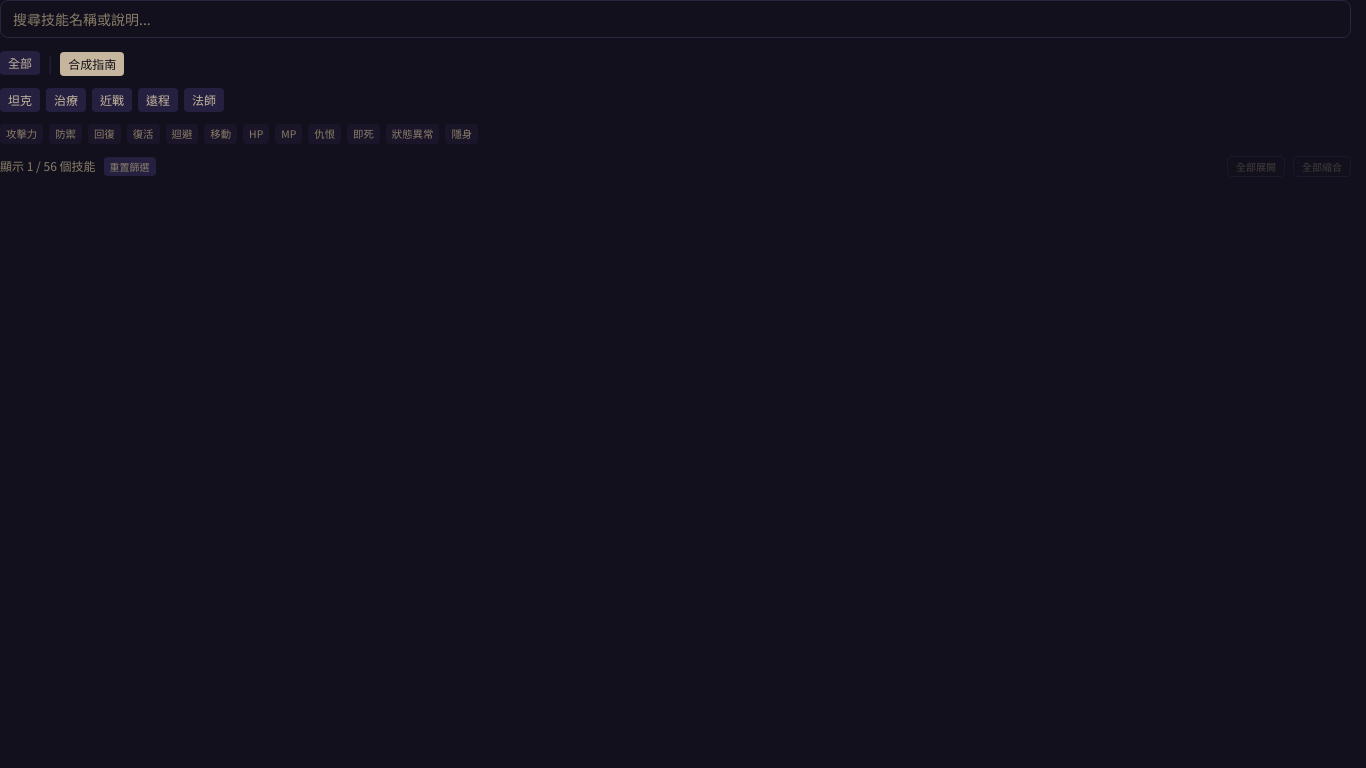
Scenario: SkillRecipeList — A4 guide mode expand/collapse › enables expand-all/collapse-all when not in guide view
This screenshot has width=1366, height=768.
Note: Switch away from 'guide' to 'all'
Click the button "全部".
click(20, 63)  # box top-left (0, 51), bottom-right (40, 75)
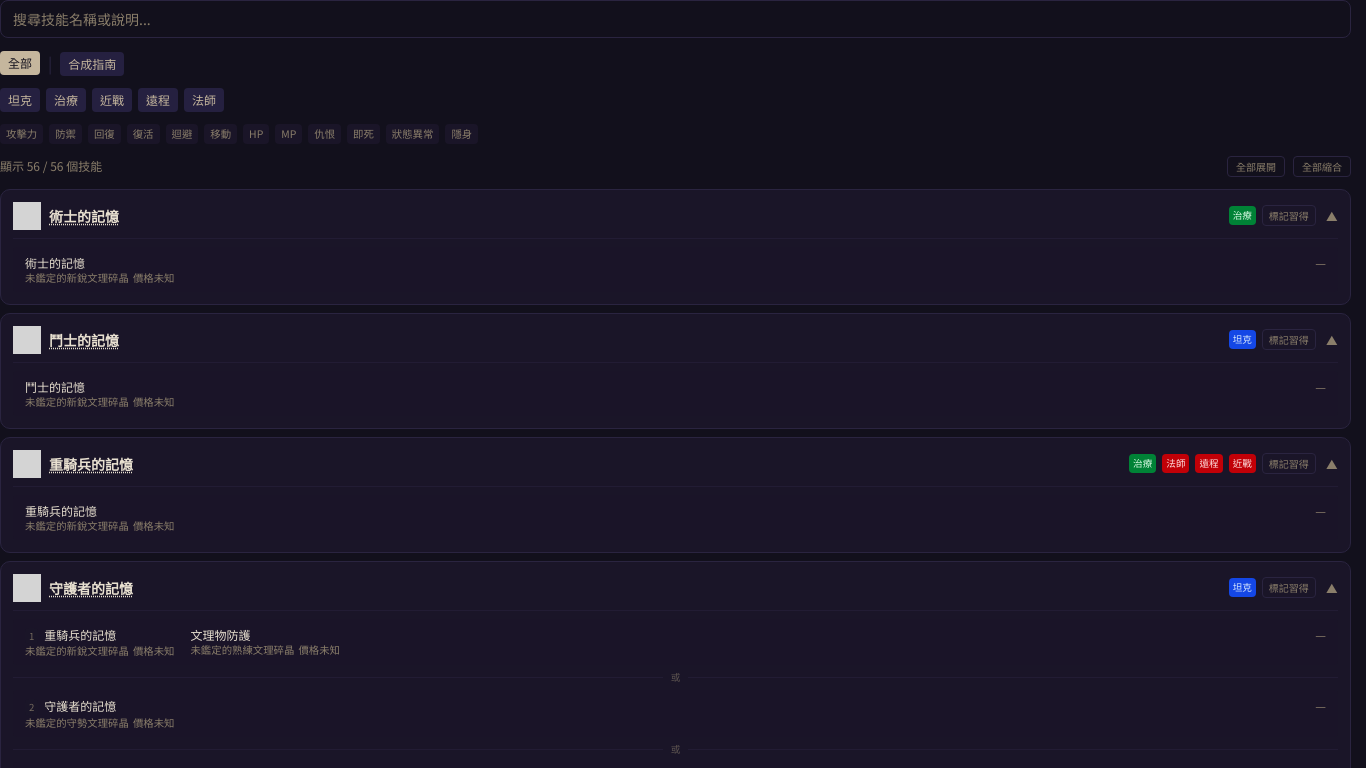
Now the button "全部展開" is enabled, box top-left (1227, 156), bottom-right (1285, 177)
Now the button "全部縮合" is enabled, box top-left (1293, 156), bottom-right (1351, 177)
